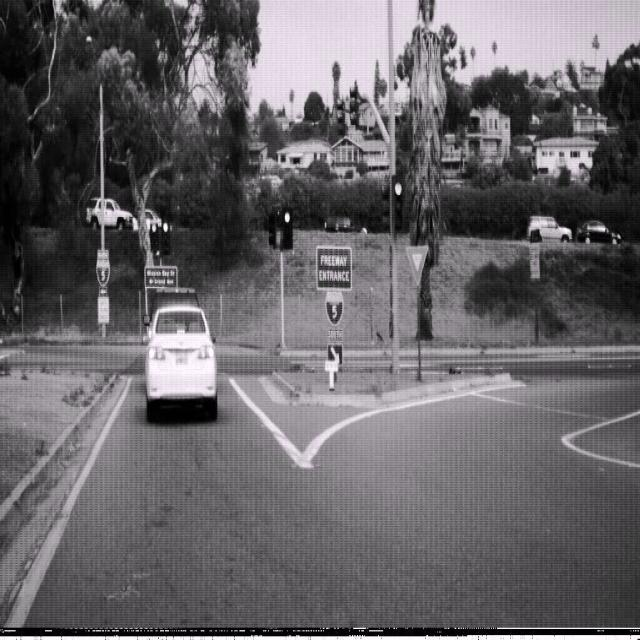yield: (405, 243, 428, 284)
